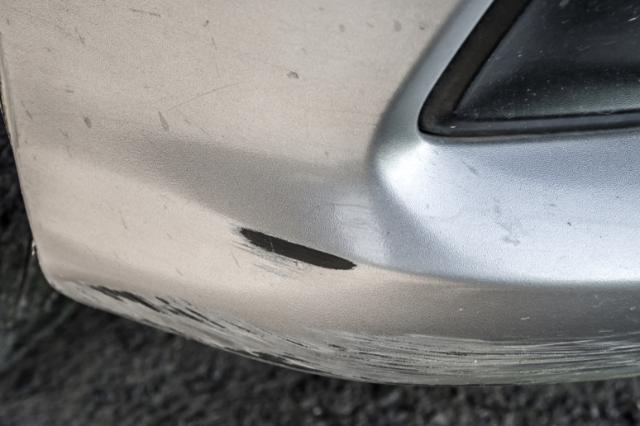Bumper: (66, 128, 640, 403)
